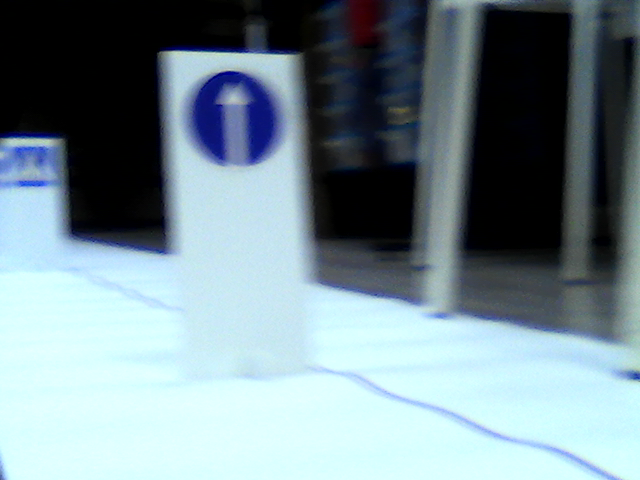forw: (191, 68, 282, 168)
